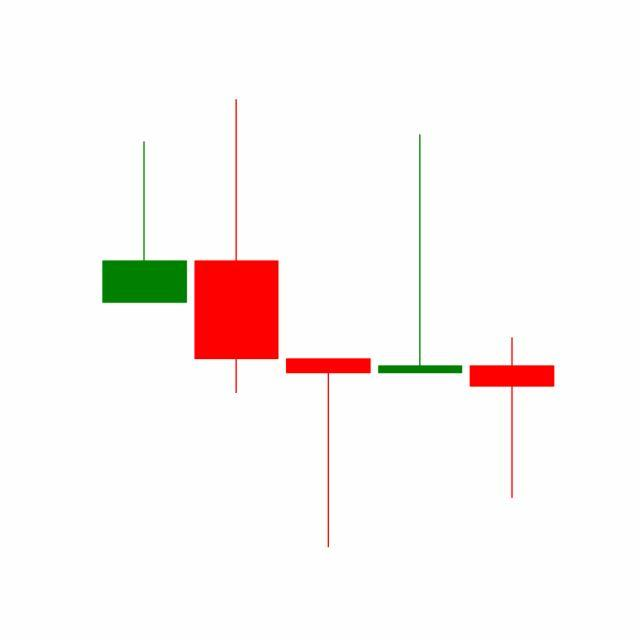Gravestone Doji: (374, 132, 468, 376)
